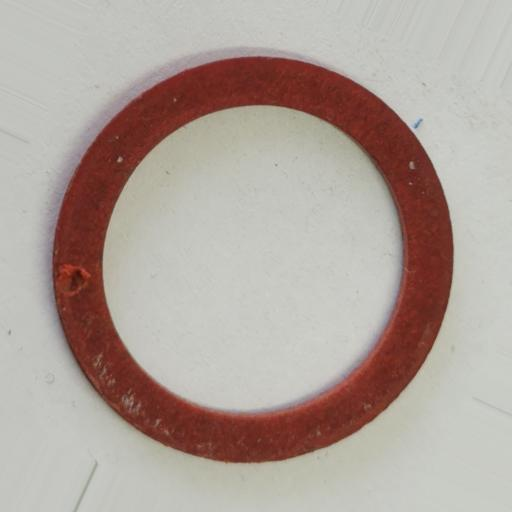defect: (56, 263, 91, 296)
